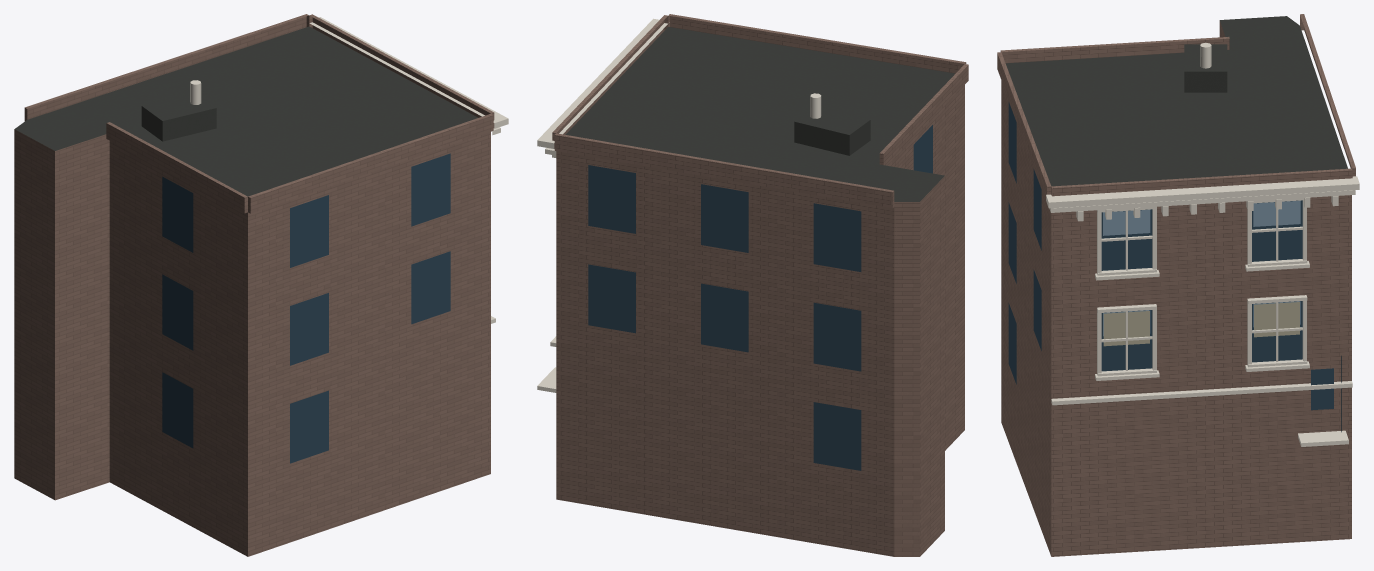
3 renders of one model, left to right at view 1: azimuth 30°, elevation 25°; view 2: azimuth 150°, elevation 25°; view 3: azimuth 270°, elevation 25°, orthographic. The views are drawn at different scales.
Visible parts, largest first — view 1: Footprint 0 / surface 2, Footprint 0 / surface 1, Inset glazing, Facade bay volumes, Cornices and window frames, Inferred rooftop service enclosure / surface 5, Inferred rooftop service enclosure / surface 3; view 2: Footprint 0 / surface 2, Footprint 0 / surface 1, Inset glazing, Facade bay volumes, Cornices and window frames, Inferred rooftop service enclosure / surface 6, Inferred rooftop service enclosure / surface 3; view 3: Footprint 0 / surface 2, Footprint 0 / surface 1, Cornices and window frames, Inset glazing, Facade bay volumes, Interior blind variation, Sky reflection panels, Inferred rooftop service enclosure / surface 3, Inferred rooftop service enclosure / surface 1.
Part boxes in pixels (<box>): Footprint 0 / surface 2: <box>14,129,490,556</box>; Footprint 0 / surface 1: <box>14,26,477,196</box>; Inset glazing: <box>162,153,450,463</box>; Facade bay volumes: <box>24,14,494,213</box>; Cornices and window frames: <box>309,17,508,323</box>; Inferred rooftop service enclosure / surface 5: <box>162,108,216,141</box>; Inferred rooftop service enclosure / surface 3: <box>142,94,216,120</box>; Footprint 0 / surface 2: <box>556,85,964,556</box>; Footprint 0 / surface 1: <box>565,27,954,201</box>; Inset glazing: <box>588,125,932,470</box>; Facade bay volumes: <box>552,14,968,208</box>; Cornices and window frames: <box>537,18,669,392</box>; Inferred rooftop service enclosure / surface 6: <box>794,121,849,155</box>; Inferred rooftop service enclosure / surface 3: <box>795,107,870,134</box>; Footprint 0 / surface 2: <box>1001,20,1351,556</box>; Footprint 0 / surface 1: <box>1005,16,1347,186</box>; Cornices and window frames: <box>1046,176,1359,446</box>; Inset glazing: <box>1008,102,1333,410</box>; Facade bay volumes: <box>997,14,1355,198</box>; Interior blind variation: <box>1103,302,1299,346</box>; Sky reflection panels: <box>1103,200,1300,336</box>; Inferred rooftop service enclosure / surface 3: <box>1184,44,1227,71</box>; Inferred rooftop service enclosure / surface 1: <box>1184,71,1227,92</box>.
Bounding box in the file's own units: 12.56 × 12.39 × 10.14.
